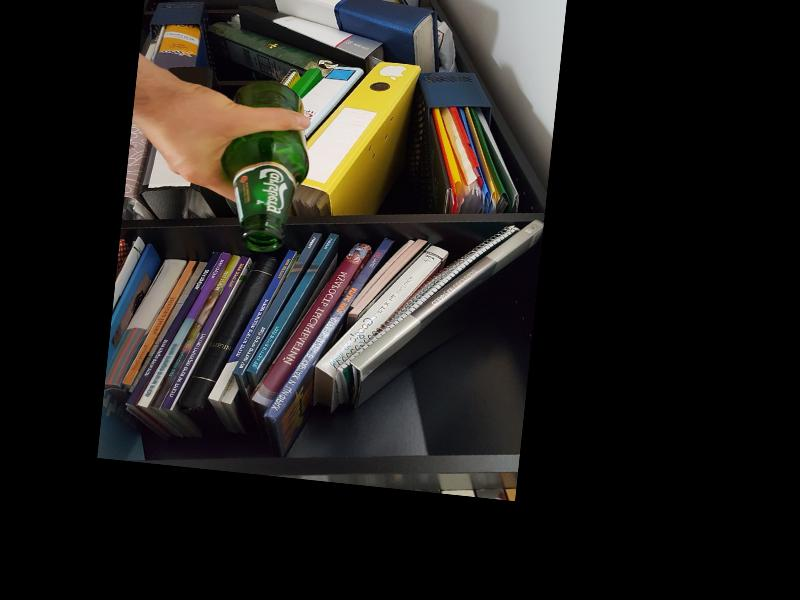Beer: (215, 75, 315, 255)
